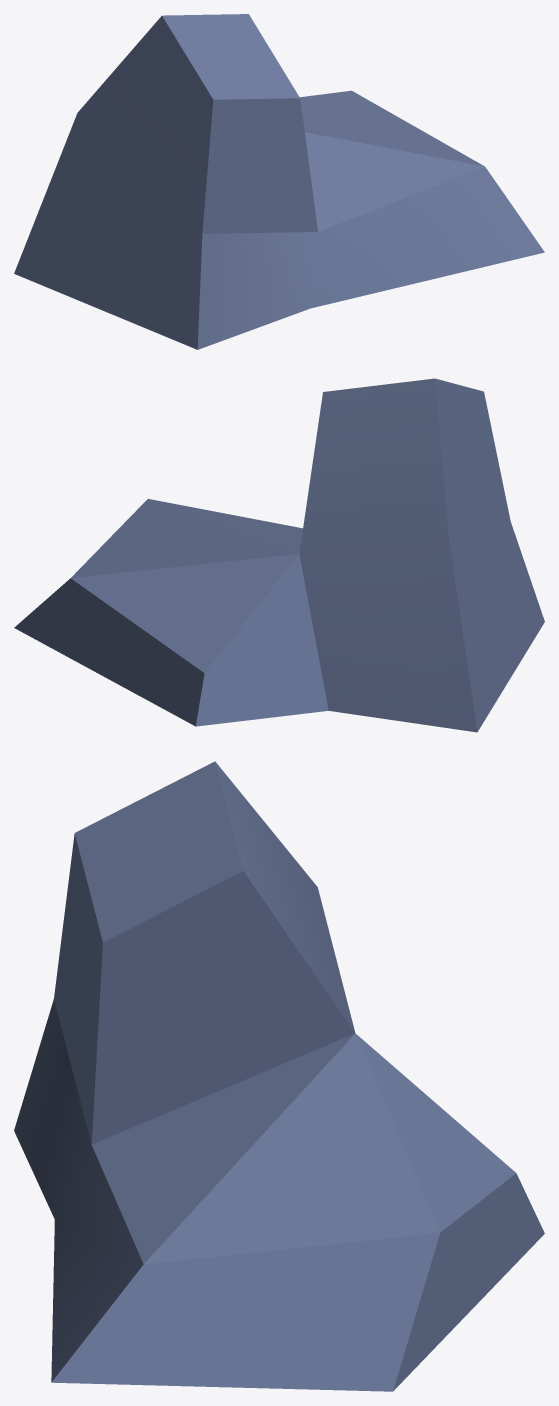
The model's file is piedra_4.fbx.
3 views of the same model, one above another, from view 1: azimuth 30°, elevation 25°; view 2: azimuth 150°, elevation 25°; view 3: azimuth 270°, elevation 25° (orthographic). The views are drawn at different scales.
Visible parts, largest first — view 1: p_piedra_grande1; view 2: p_piedra_grande1; view 3: p_piedra_grande1.
Part boxes in pixels (x1,y1,x2,y2): p_piedra_grande1: (14, 14, 544, 349); p_piedra_grande1: (14, 378, 544, 732); p_piedra_grande1: (14, 761, 544, 1391).
Bounding box in the file's own units: 235 × 142 × 174.
